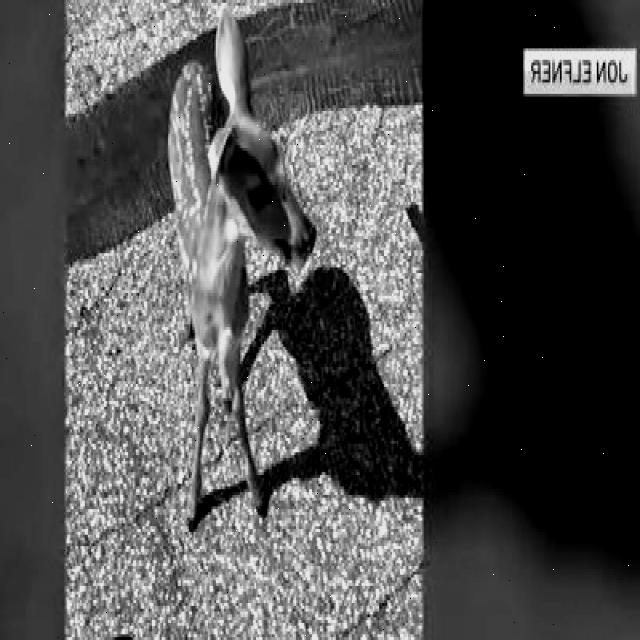deer: (146, 3, 326, 540)
